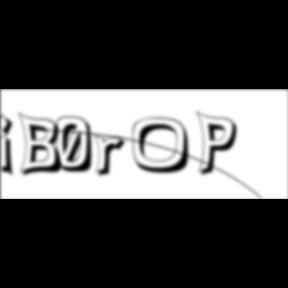0: (55, 115, 100, 174)
B: (18, 111, 68, 179)
O: (132, 117, 198, 176)
P: (196, 110, 243, 180)
i: (1, 112, 22, 180)
r: (94, 134, 132, 180)
